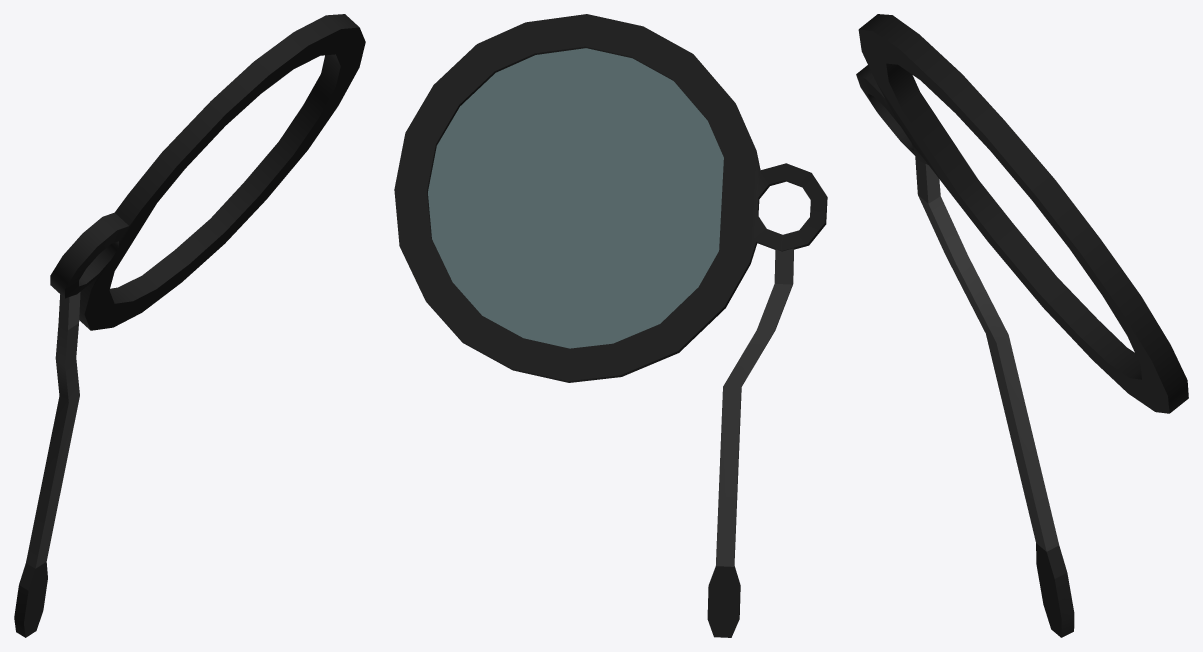
File: hat_monocle.glb
3 views of the same model, side by side, from view 1: azimuth 30°, elevation 25°; view 2: azimuth 150°, elevation 25°; view 3: azimuth 270°, elevation 25° (orthographic). The views are drawn at different scales.
Parts seen in each view (by area): view 1: hat_monocle; view 2: hat_monocle; view 3: hat_monocle.
Part boxes in pixels (x1,y1,x2,y2): hat_monocle: (14,14,365,637); hat_monocle: (394,14,827,637); hat_monocle: (856,14,1188,637).
Bounding box in the file's own units: 0.1456 × 0.2143 × 0.0895.
